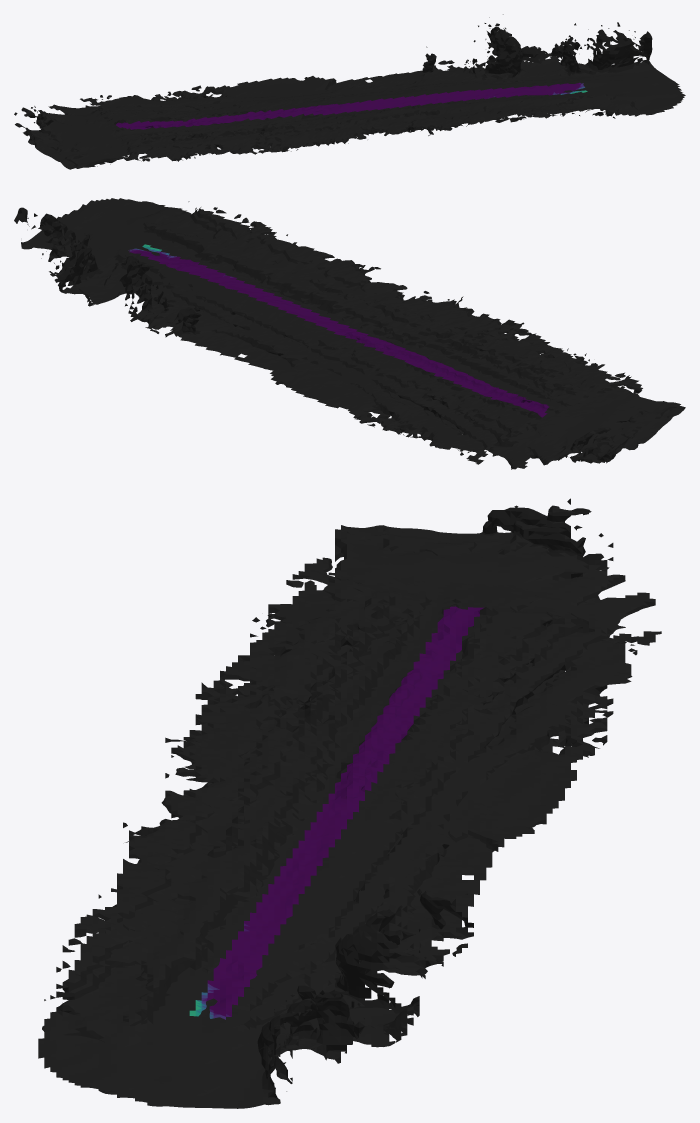
3 renders of one model, top to bottom at view 1: azimuth 30°, elevation 25°; view 2: azimuth 150°, elevation 25°; view 3: azimuth 270°, elevation 25°, orthographic. The views are drawn at different scales.
Visible parts, largest first — view 1: node; view 2: node; view 3: node.
Part boxes in pixels (x1,y1,x2,y2): node: [14, 14, 685, 169]; node: [14, 198, 685, 469]; node: [38, 498, 661, 1108].
Size of the model in its own units: 122 by 10.84 by 58.75.
